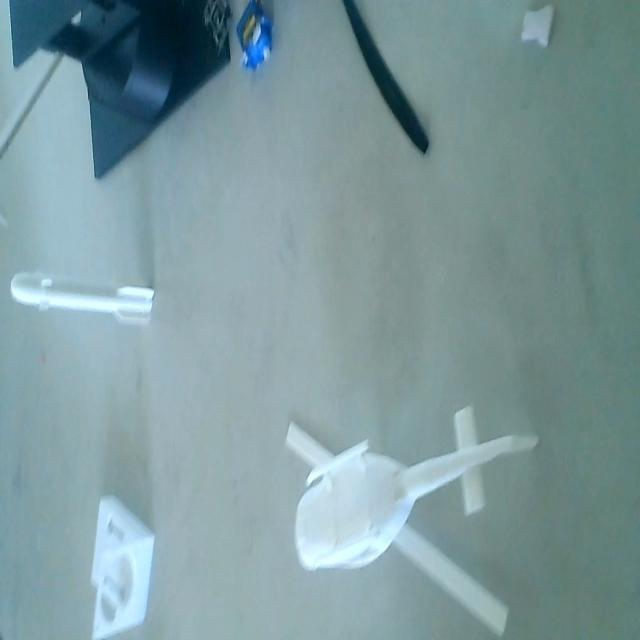Helicopter: (283, 408, 544, 636)
Rocket: (10, 268, 154, 332)
